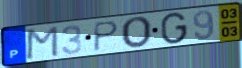3: (60, 24, 83, 55)
9: (192, 9, 216, 41)
G: (160, 11, 189, 46)
M: (25, 24, 59, 61)
O: (120, 16, 153, 50)
P: (92, 20, 121, 53)
